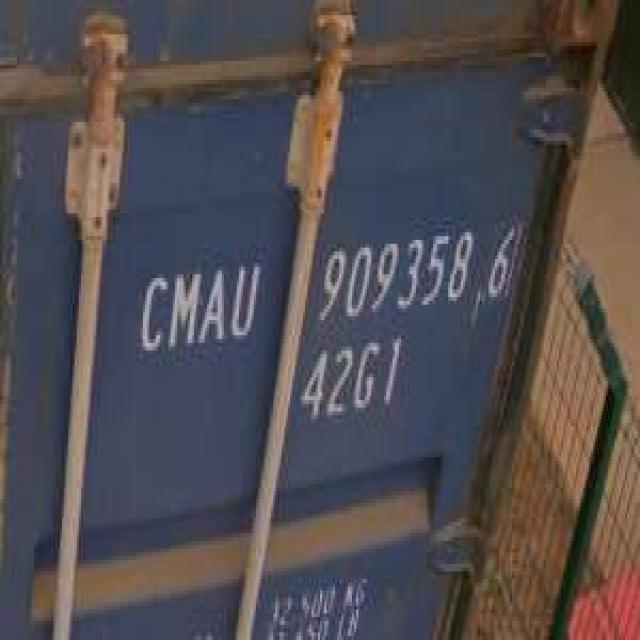dv: (479, 206, 523, 309)
owner: (132, 248, 262, 362)
serial: (316, 221, 471, 328)
size: (296, 331, 406, 423)
